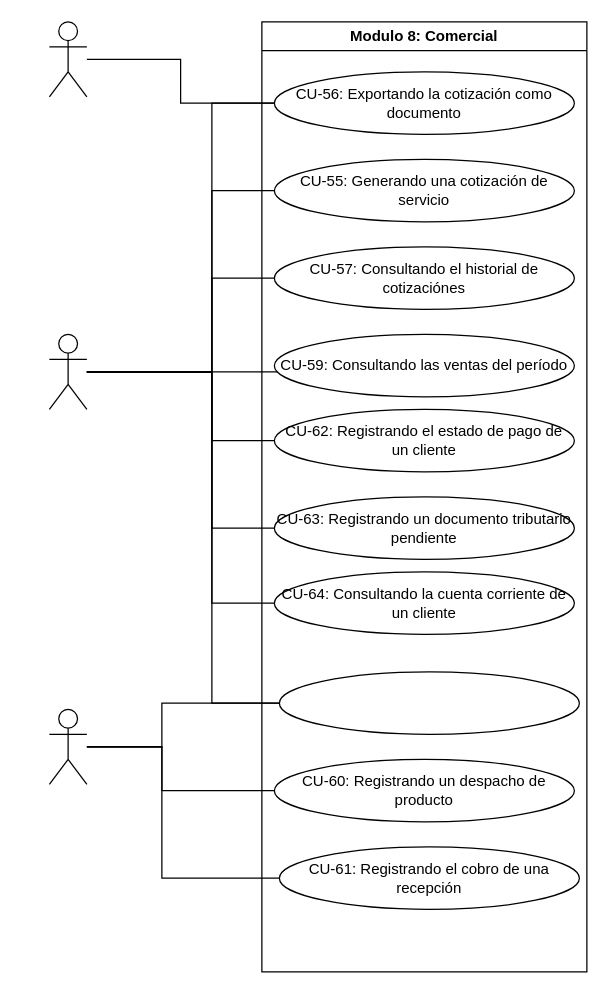
Some shapes in this 609 by 994 pixel diagram are drawn without their labels. The centre of each missing label's shape, as x and y in pixels:
"Administrador" goes at point (67, 371).
"CU-58: Registrando una venta de producto" goes at point (428, 702).
"Operador" goes at point (67, 746).
"Sistema" goes at point (67, 59).
